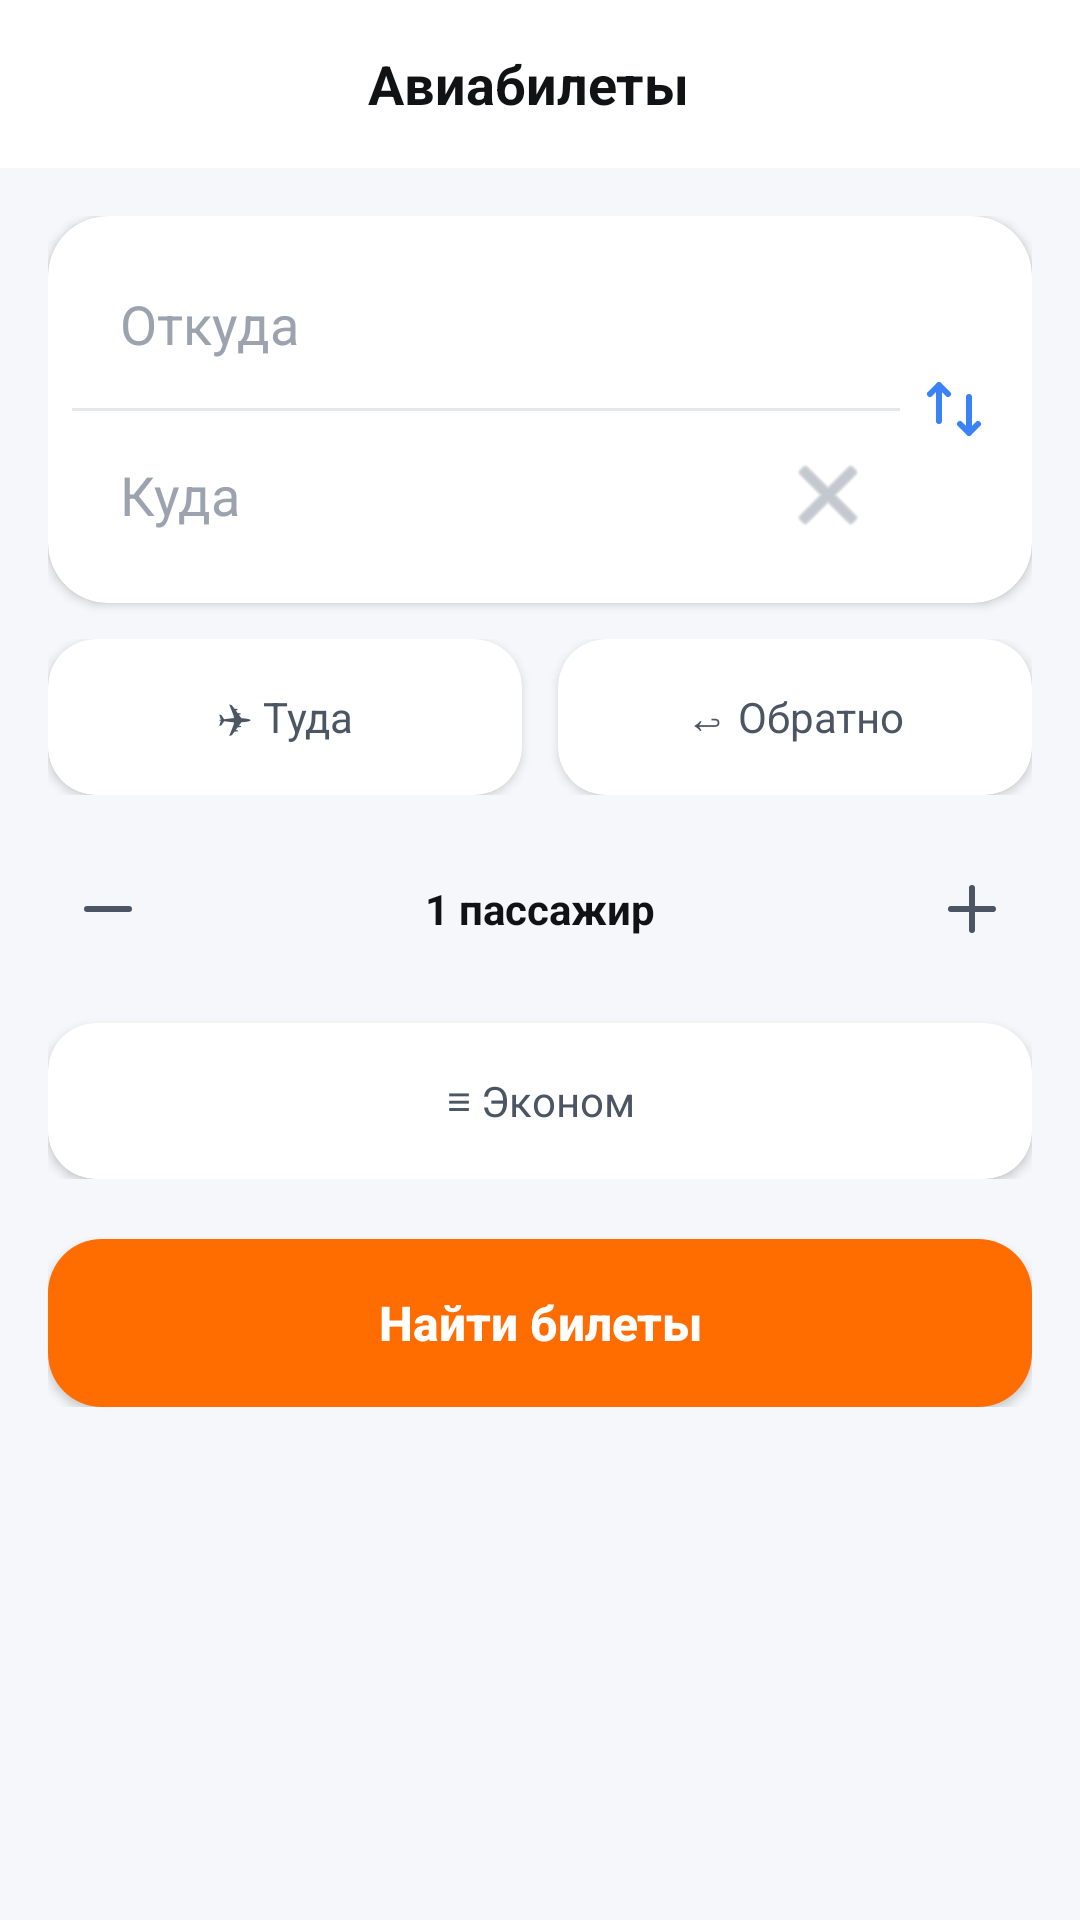

Where to tap for icons on this 1080*1920 app screen, as (x,y):
close clear cancel: (828,495)
plus: (972,909)
swap: (954,409)
